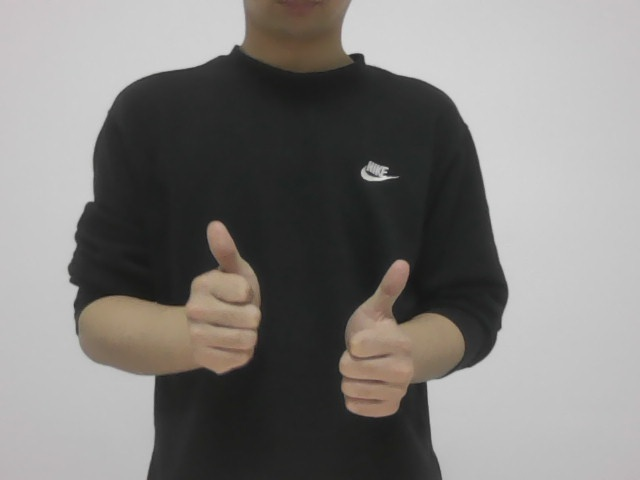friend: (169, 216, 423, 423)
